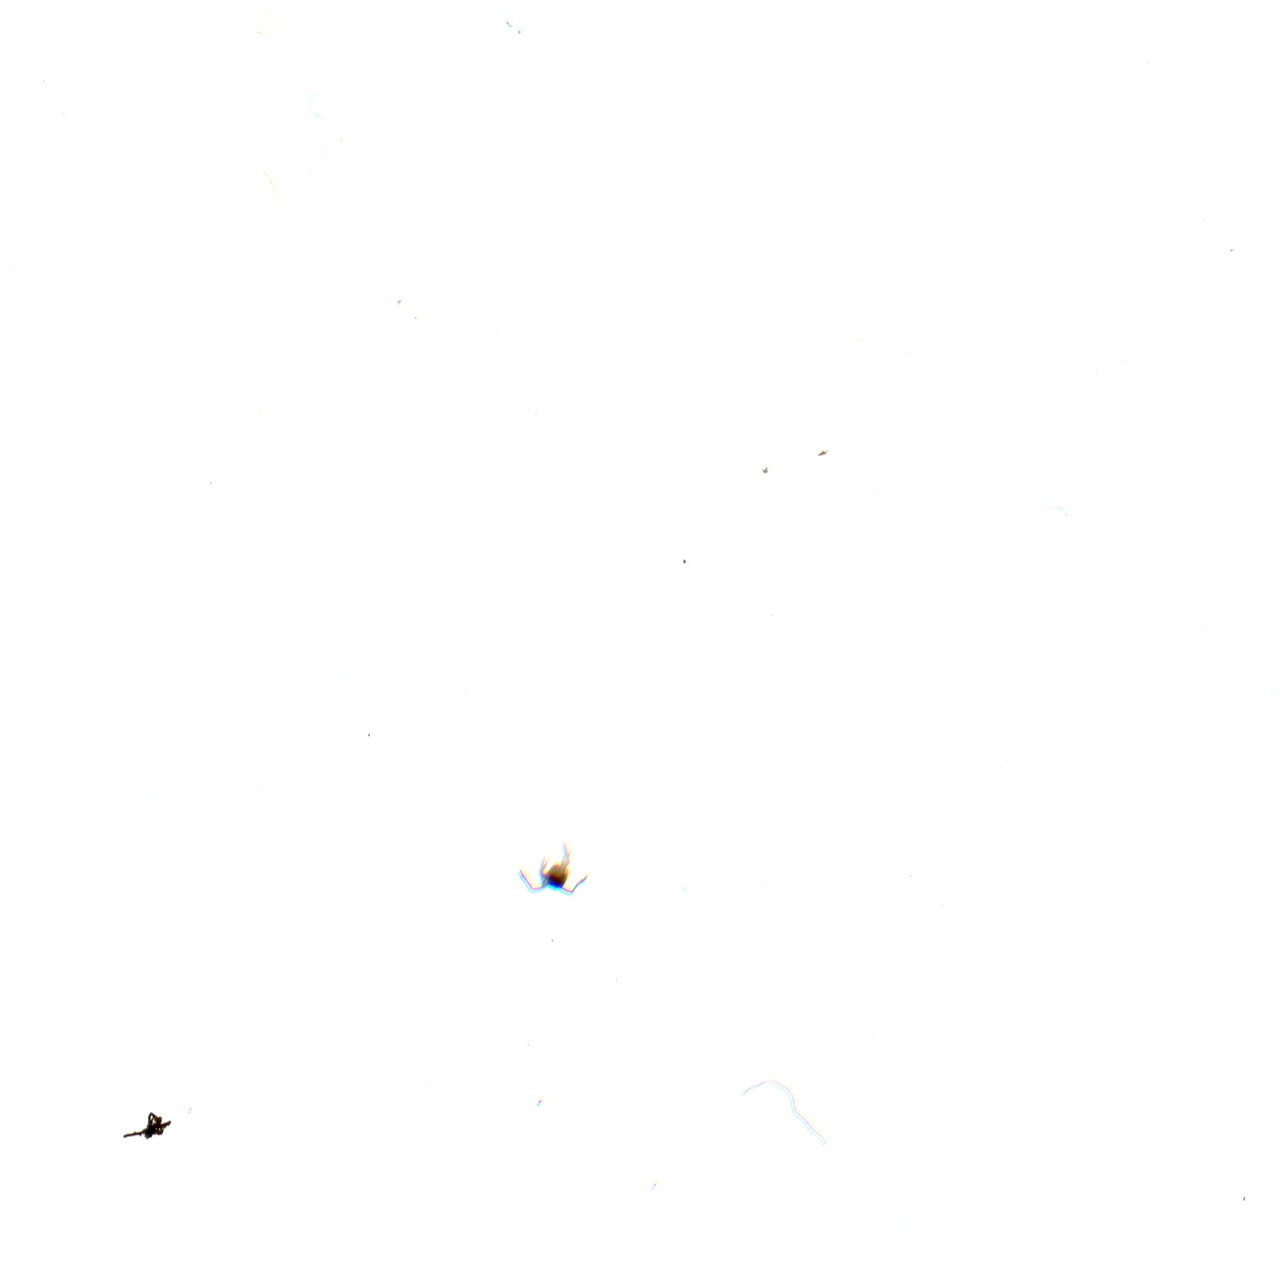arthropod: (512, 841, 593, 899)
